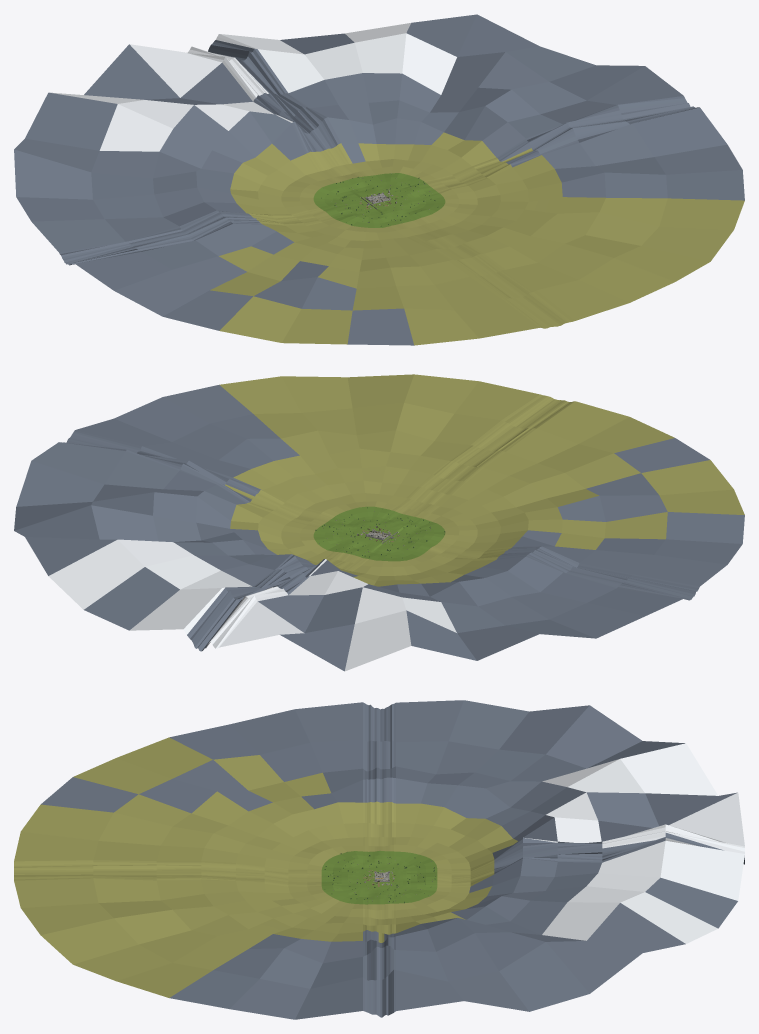
File: fortress.glb
The picture shows the model from 3 angles, top to bottom: view 1: azimuth 30°, elevation 25°; view 2: azimuth 150°, elevation 25°; view 3: azimuth 270°, elevation 25°; orthographic projection. The views are drawn at different scales.
Size of the model in its own units: 4664 by 345 by 4608.
